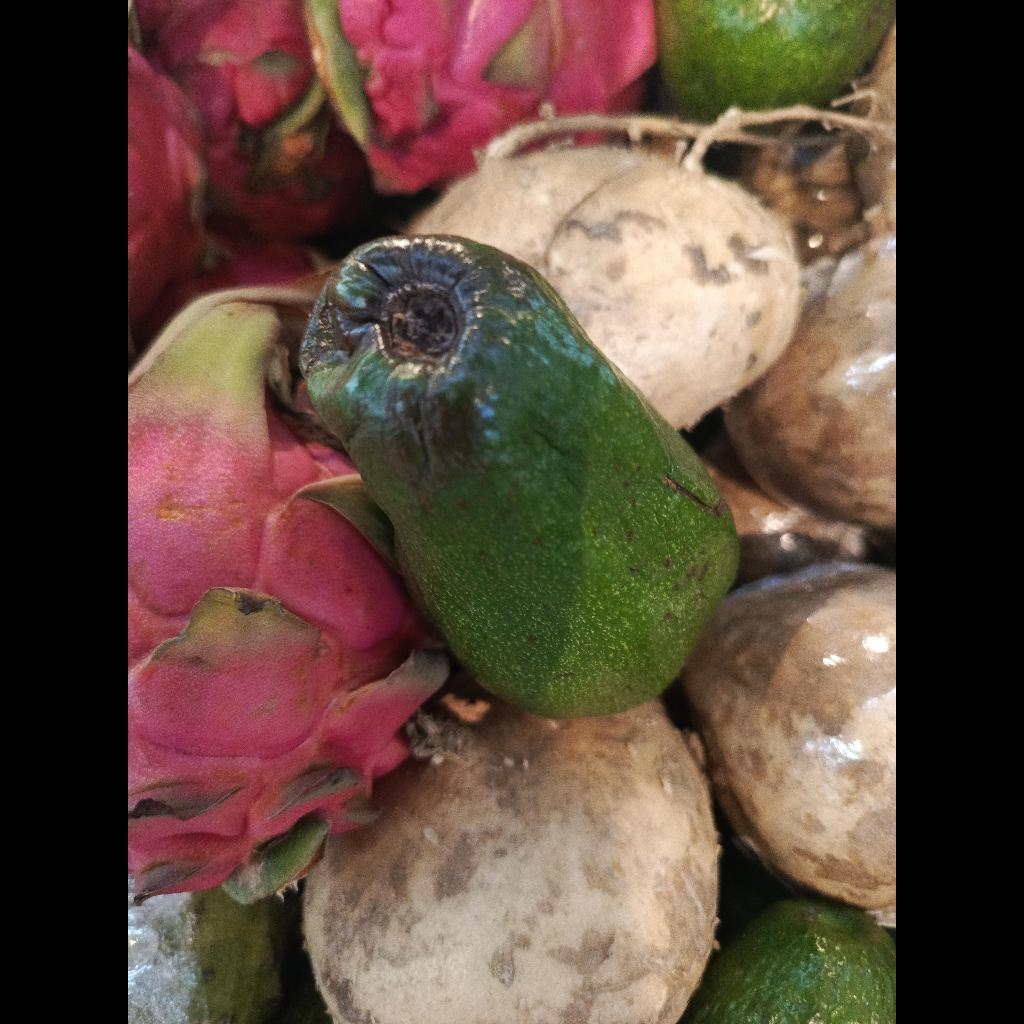stem end rot: (301, 235, 738, 717)
